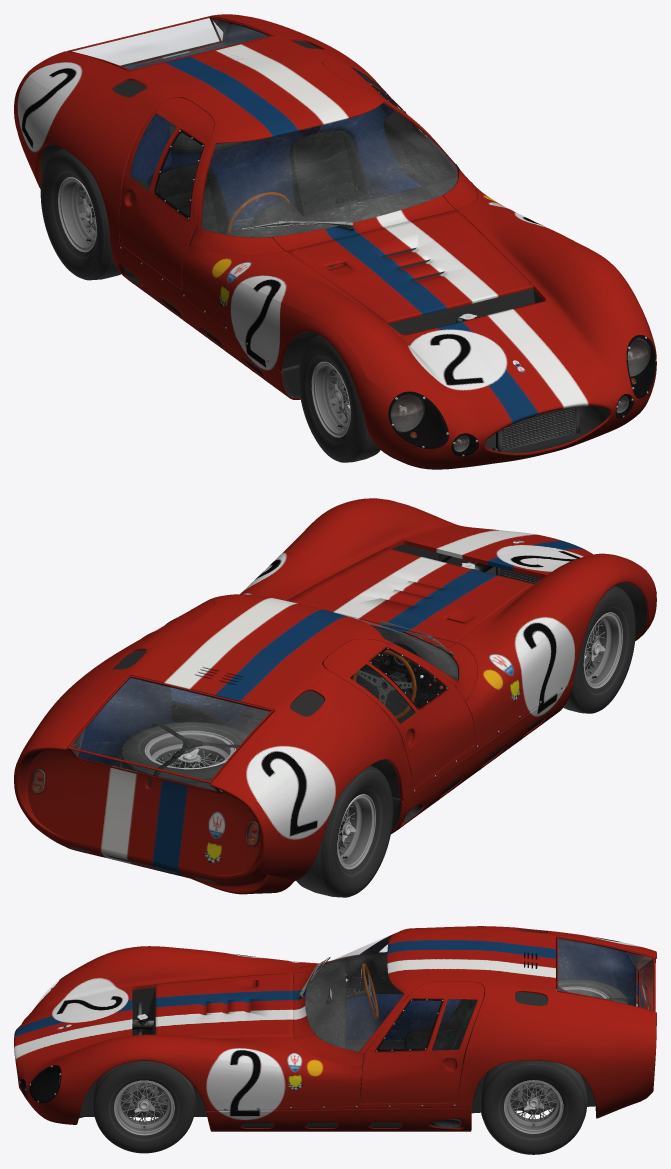
The model's file is maserati_tipo_151_3.glb.
The picture shows the model from 3 angles, top to bottom: view 1: azimuth 30°, elevation 25°; view 2: azimuth 150°, elevation 25°; view 3: azimuth 270°, elevation 25°; orthographic projection. The views are drawn at different scales.
Visible parts, largest first — view 1: Body.001, int_glass.001, Bonnet.001, COCKPIT_HR, BODY, door_r_body.001, Seat_new.001, g_Tyre_RR002.001, g_Tyre_RF003.001, Dash001_LR.001, door_l_panel_int.001, Blockng_geo.001 (+7 smaller); view 2: Body.001, Bonnet.001, COCKPIT_HR, int_glass.001, door_r_body.001, BODY, g_Tyre_RR002.001, g_Tyre_RF003.001, g_Tyre__LR.001, Dash001_LR.001, g_Rim__LR.001, g_Rim_RF003.001 (+5 smaller); view 3: Body.001, int_glass.001, Bonnet.001, door_l_body.001, COCKPIT_HR, BODY, g_Tyre_RR001.001, g_Tyre_RF001.001, Dash001_LR.001, Blockng_geo.001, g_Rim_RF001.001, g_Rim_RR001.001 (+8 smaller).
Part boxes in pixels (x1,y1,x2,y2): Body.001: [14, 14, 656, 469]; int_glass.001: [93, 25, 457, 237]; Bonnet.001: [286, 209, 533, 323]; COCKPIT_HR: [126, 20, 457, 231]; BODY: [41, 18, 656, 456]; door_r_body.001: [119, 97, 213, 289]; Seat_new.001: [157, 130, 371, 234]; g_Tyre_RR002.001: [40, 148, 121, 280]; g_Tyre_RF003.001: [298, 335, 380, 462]; Dash001_LR.001: [225, 177, 458, 237]; door_l_panel_int.001: [350, 66, 457, 185]; Blockng_geo.001: [112, 40, 543, 402]; Body.001: [14, 498, 656, 894]; Bonnet.001: [287, 548, 533, 642]; COCKPIT_HR: [74, 646, 432, 790]; int_glass.001: [93, 618, 457, 753]; door_r_body.001: [323, 639, 475, 787]; BODY: [31, 541, 647, 844]; g_Tyre_RR002.001: [296, 765, 393, 897]; g_Tyre_RF003.001: [563, 586, 635, 713]; g_Tyre__LR.001: [120, 722, 248, 791]; Dash001_LR.001: [152, 626, 458, 776]; g_Rim__LR.001: [144, 730, 235, 769]; g_Rim_RF003.001: [583, 612, 622, 688]; Body.001: [14, 926, 656, 1124]; int_glass.001: [305, 939, 652, 1051]; Bonnet.001: [155, 972, 293, 1038]; door_l_body.001: [359, 981, 484, 1103]; COCKPIT_HR: [297, 937, 643, 1109]; BODY: [19, 952, 652, 1131]; g_Tyre_RR001.001: [480, 1060, 587, 1154]; g_Tyre_RF001.001: [93, 1061, 195, 1153]; Dash001_LR.001: [305, 960, 630, 1048]; Blockng_geo.001: [85, 929, 596, 1127]; g_Rim_RF001.001: [114, 1080, 174, 1135]; g_Rim_RR001.001: [504, 1080, 563, 1133].
Size of the model in its own units: 1.64 by 1.01 by 3.96.
37 materials, 37 textured.
